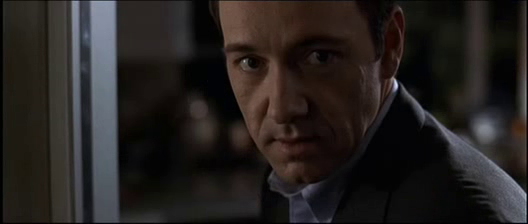cu: (1, 1, 528, 224)
face: (220, 9, 367, 186)
person: (211, 1, 525, 222)
